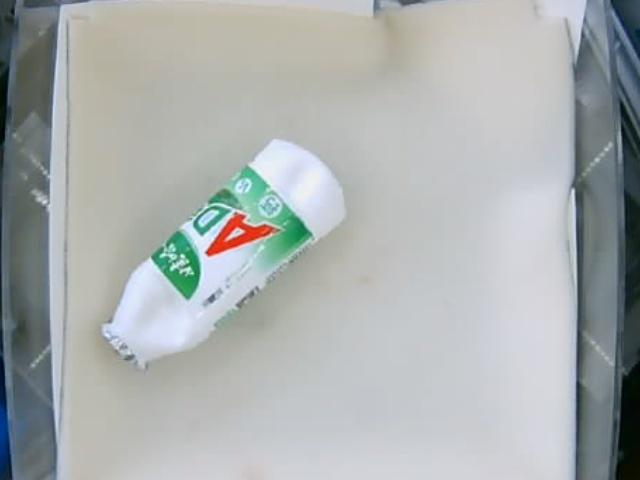Bottle: (98, 142, 344, 372)
